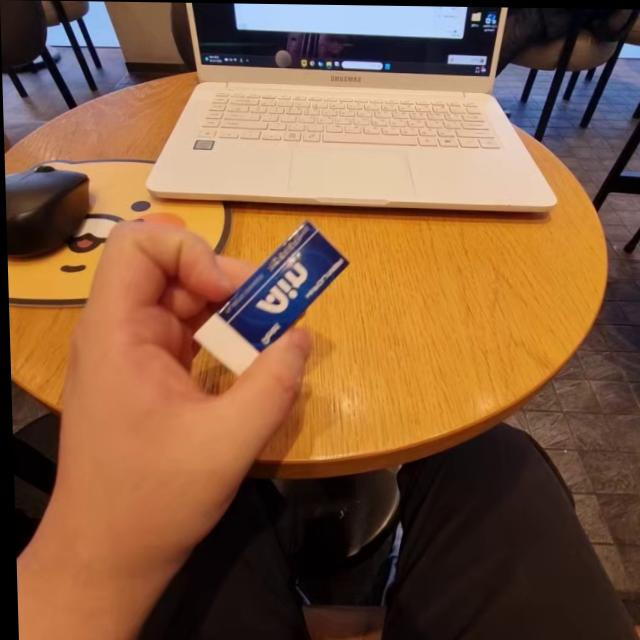grab_eraser: (42, 184, 355, 586)
mouse: (4, 153, 93, 269)
